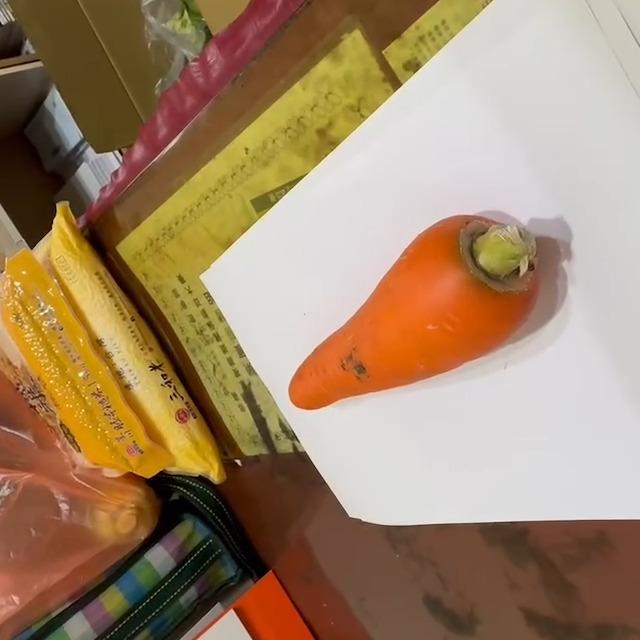carrot: (285, 213, 548, 413)
